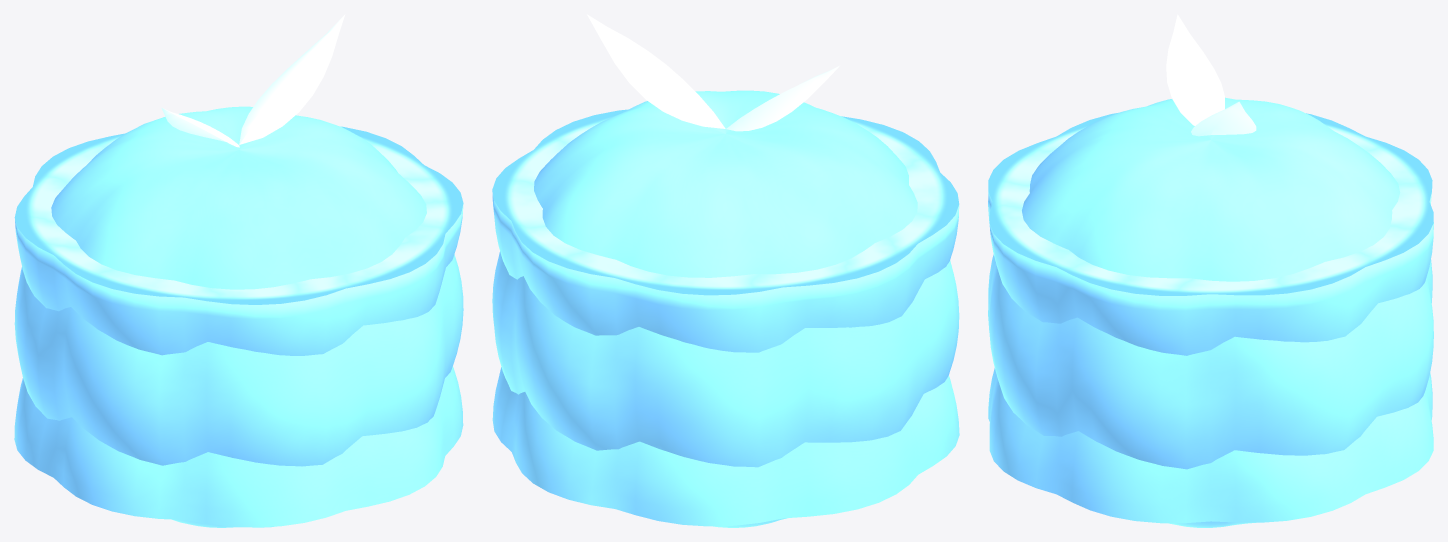
The model's file is frostberry.glb.
The picture shows the model from 3 angles, left to right: view 1: azimuth 30°, elevation 25°; view 2: azimuth 150°, elevation 25°; view 3: azimuth 270°, elevation 25°; orthographic projection. The views are drawn at different scales.
Visible parts, largest first — view 1: whole, bot, top; view 2: whole, bot, top; view 3: whole, bot, top.
Boxes of the visible parts, x1,y1,x2,y2 form: whole: (14,14,463,527); bot: (14,126,463,355); top: (14,366,463,527); whole: (492,14,959,527); bot: (492,109,959,352); top: (492,367,959,526); whole: (988,14,1433,527); bot: (988,112,1433,355); top: (988,368,1433,523).
Size of the model in its own units: 0.5738 by 0.6388 by 0.5736.
3 materials, 2 textured.
